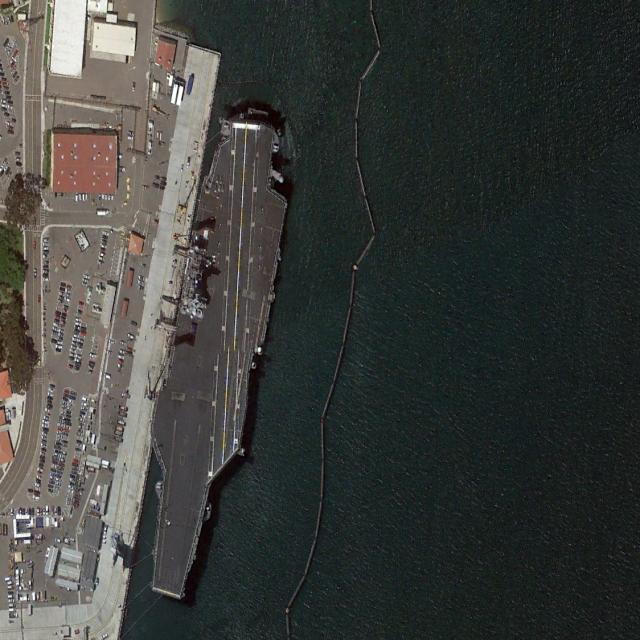Aircraft Carrier: (120, 101, 305, 610)
